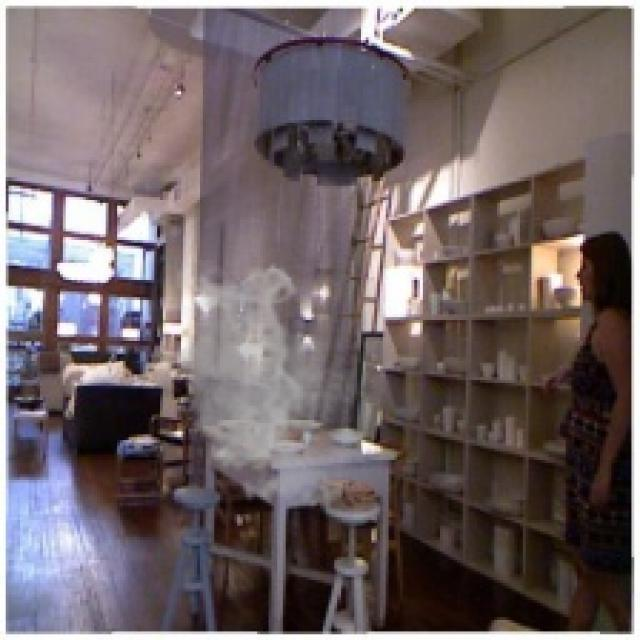Smoke: (166, 260, 366, 517)
